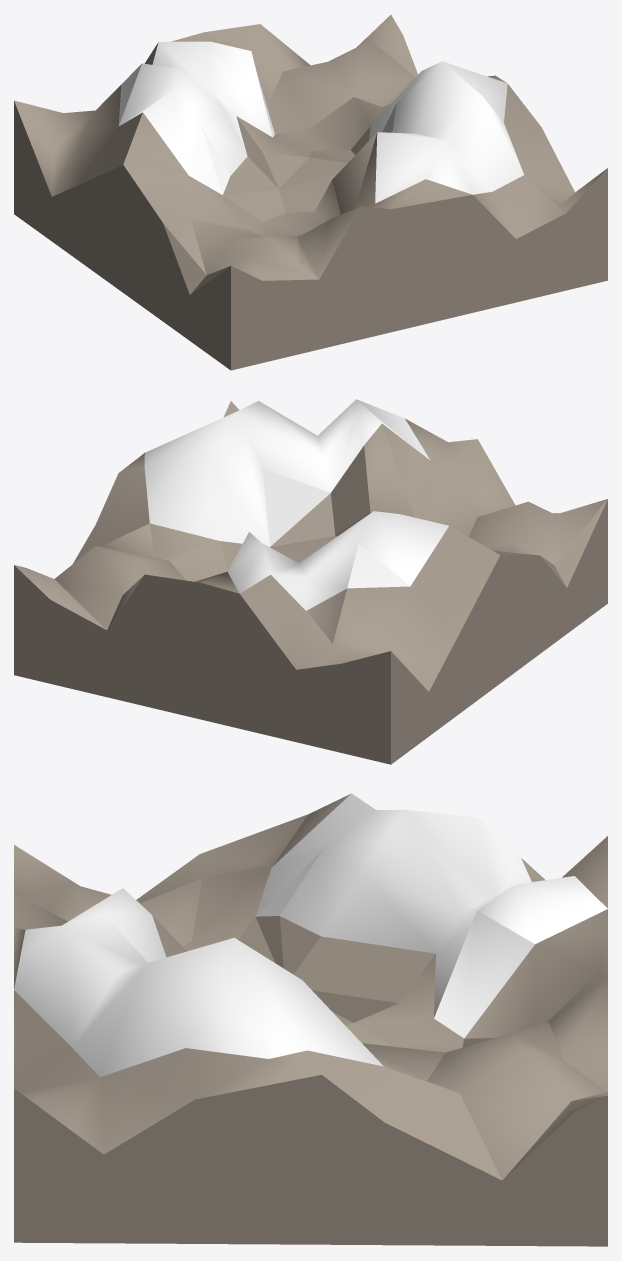
Rendered from Montain.glb.
3 views of the same model, one above another, from view 1: azimuth 30°, elevation 25°; view 2: azimuth 150°, elevation 25°; view 3: azimuth 270°, elevation 25° (orthographic). The views are drawn at different scales.
Visible parts, largest first — view 1: Plane; view 2: Plane; view 3: Plane.
Part boxes in pixels (x1,y1,x2,y2): Plane: (14,15,607,370); Plane: (14,399,607,764); Plane: (14,793,607,1246).
Size of the model in its own units: 19.35 by 9.03 by 19.29.
